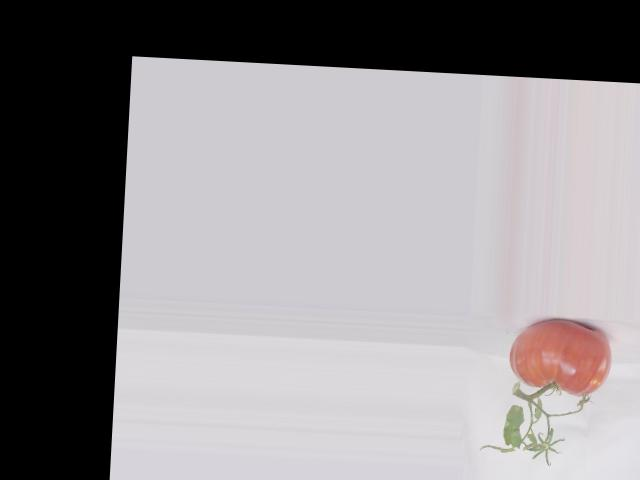tomato: (507, 316, 614, 397)
